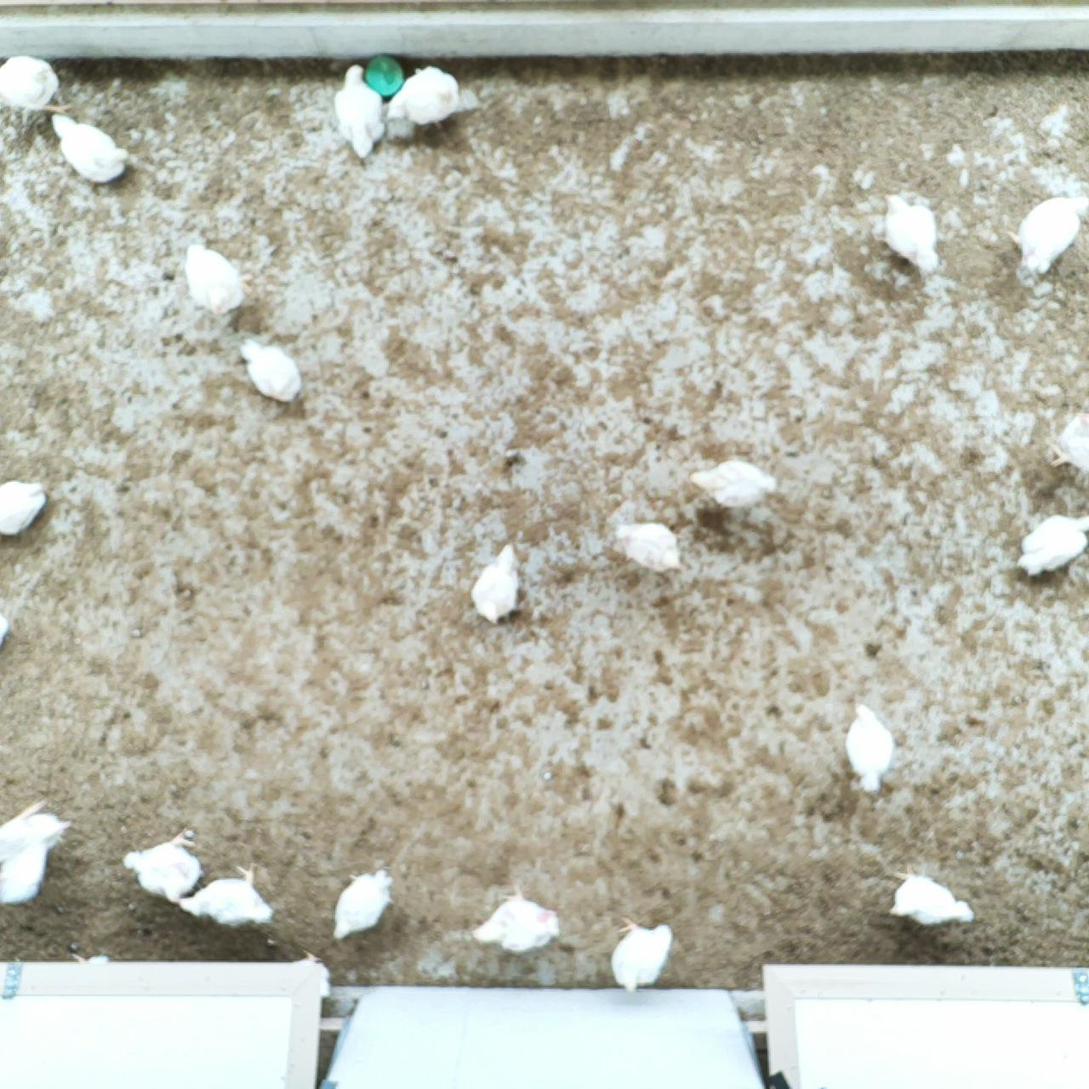chicken: (1001, 193, 1089, 287), (0, 797, 73, 908), (47, 112, 136, 194), (175, 860, 279, 927), (121, 824, 204, 907), (469, 880, 562, 953), (885, 861, 980, 932), (870, 189, 944, 279), (381, 63, 465, 139), (330, 61, 389, 162), (181, 239, 255, 318), (607, 913, 676, 995), (843, 698, 900, 796), (685, 455, 779, 513), (0, 52, 76, 120), (332, 866, 398, 944), (1015, 510, 1089, 578), (235, 333, 304, 405), (469, 540, 525, 628), (610, 516, 687, 577), (0, 475, 49, 537), (1049, 409, 1089, 477)
